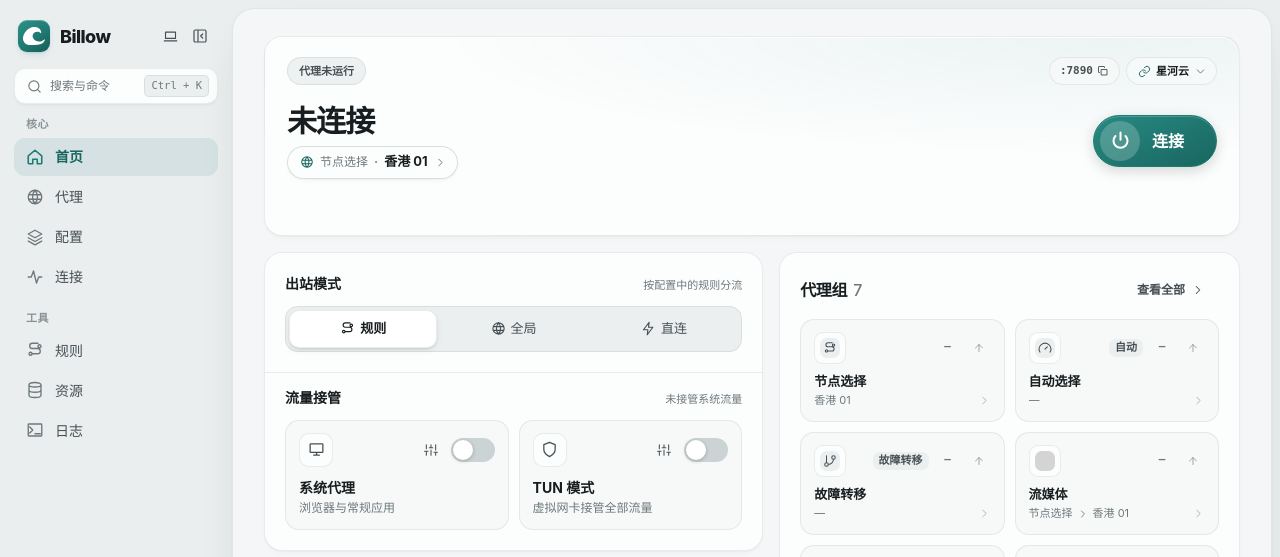
Test: UI/UX polish › R11: subscription quota nodes collapse into an info line
The width and height of the screenshot is (1280, 557).
Click the button "代理" at (116, 196), box [14,178,218,216]
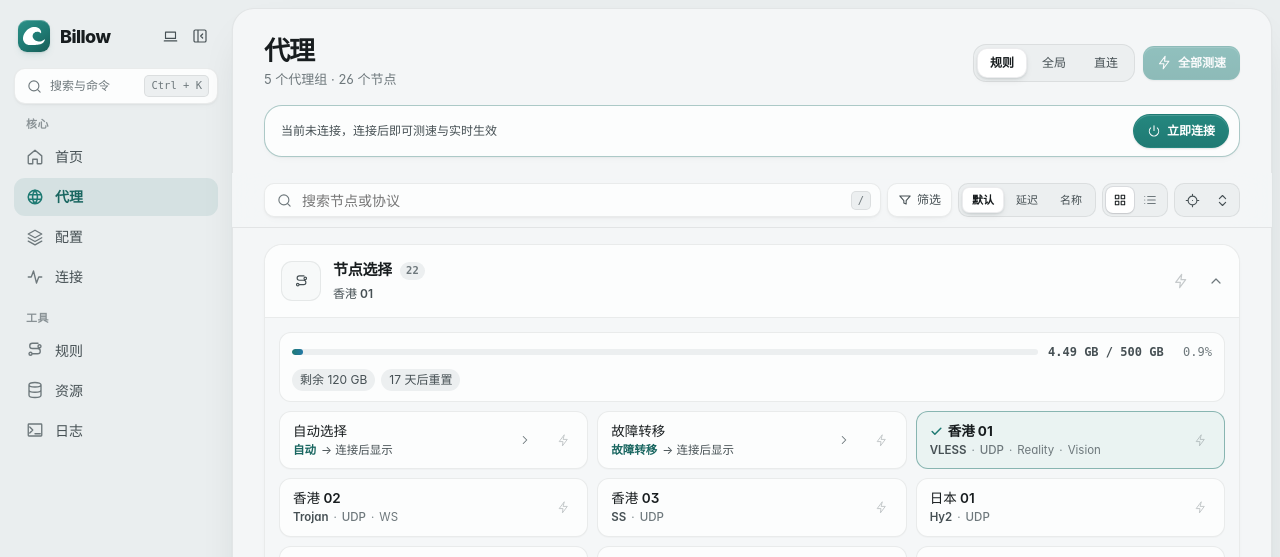
Expected: the text with class "group-quota-figure" reads "4.49 GB / 500 GB", [1048,345,1164,359]
Expected: the text with class "group-quota-pct" reads "0.9%", [1183,345,1212,359]
Expected: the elements with class "group-info-item" read "剩余 120 GB", "17 天后重置", in this order, [292,369,375,391]; [381,369,460,391]
Type "traffic" into the search field with test id "node-search" at (571, 200), box [300,184,843,216]
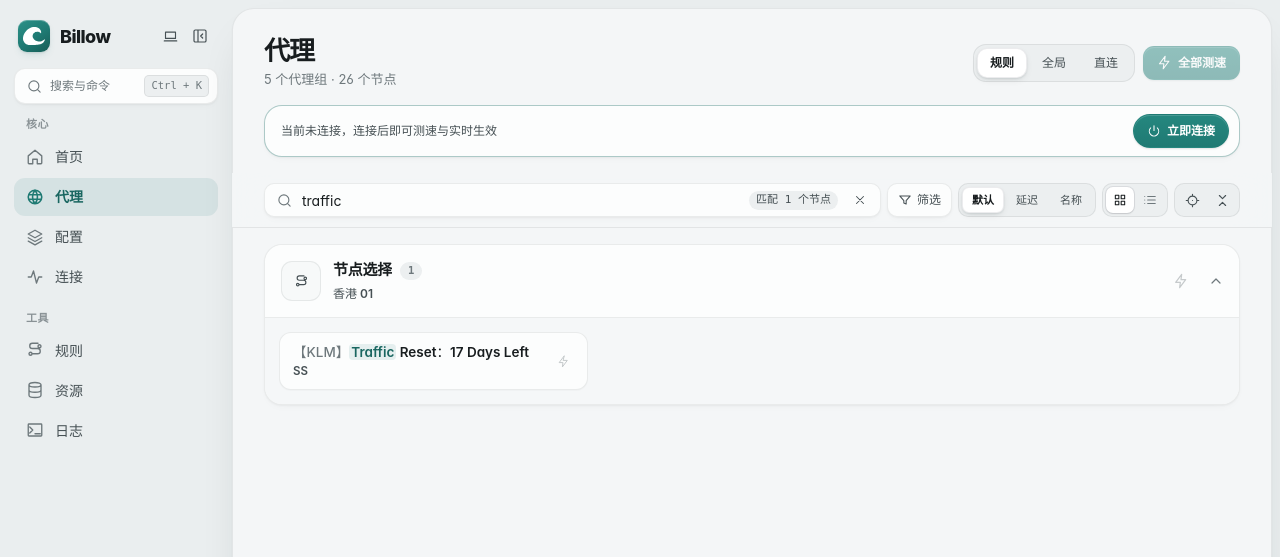
Expected: the element showing "【KLM】Traffic Reset：17 Days Left SS" is shown, [279,332,588,390]
